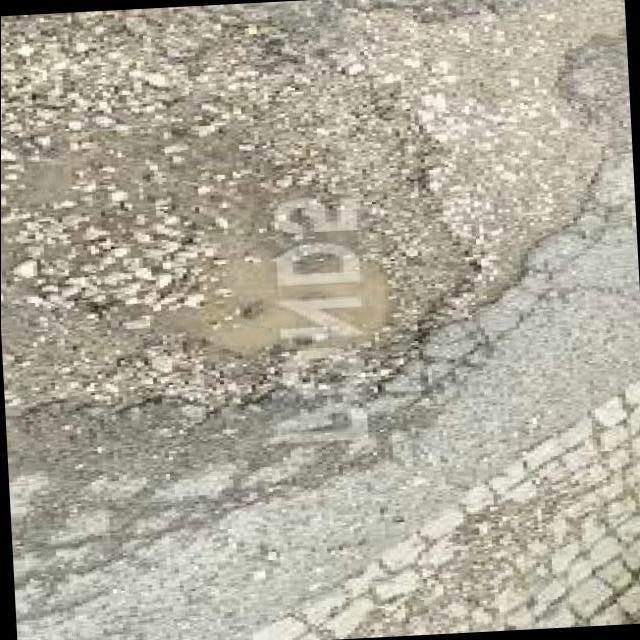pothole: (9, 188, 458, 380)
